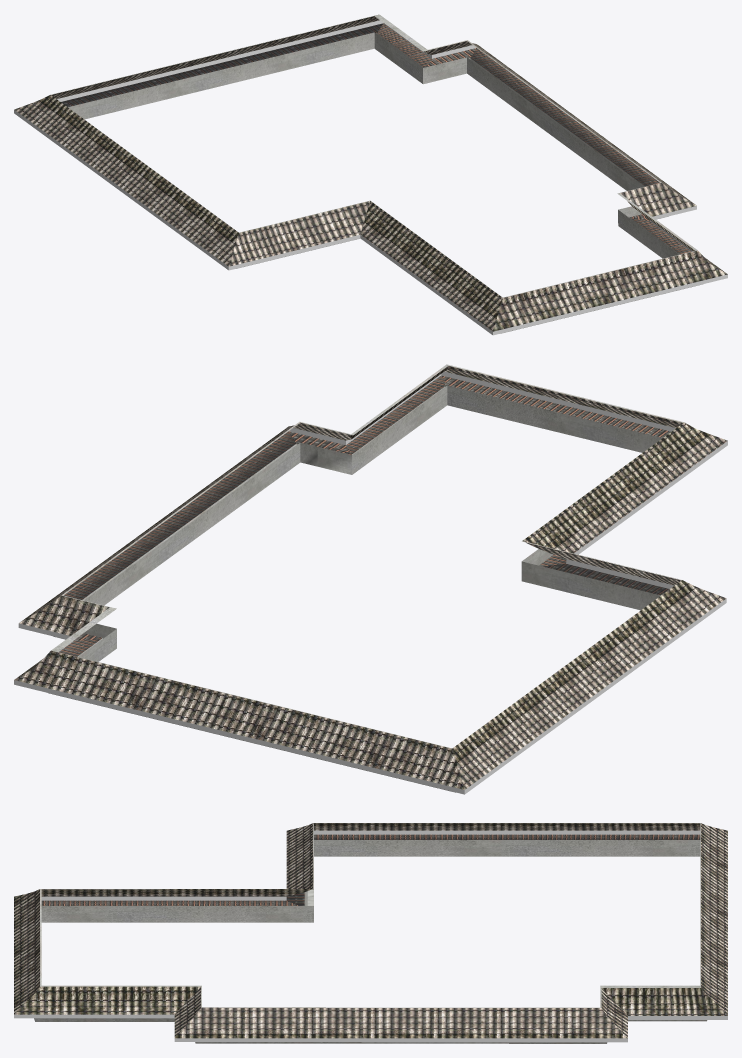
3 renders of one model, top to bottom at view 1: azimuth 30°, elevation 25°; view 2: azimuth 150°, elevation 25°; view 3: azimuth 270°, elevation 25°, orthographic. The views are drawn at different scales.
Parts seen in each view (by area): view 1: f3FY; view 2: f3FY; view 3: f3FY.
Boxes of the visible parts, bbox=[...] form: f3FY: bbox=[14, 14, 727, 335]; f3FY: bbox=[14, 364, 727, 794]; f3FY: bbox=[14, 823, 727, 1043].
Size of the model in its own units: 445 by 33.84 by 646.
